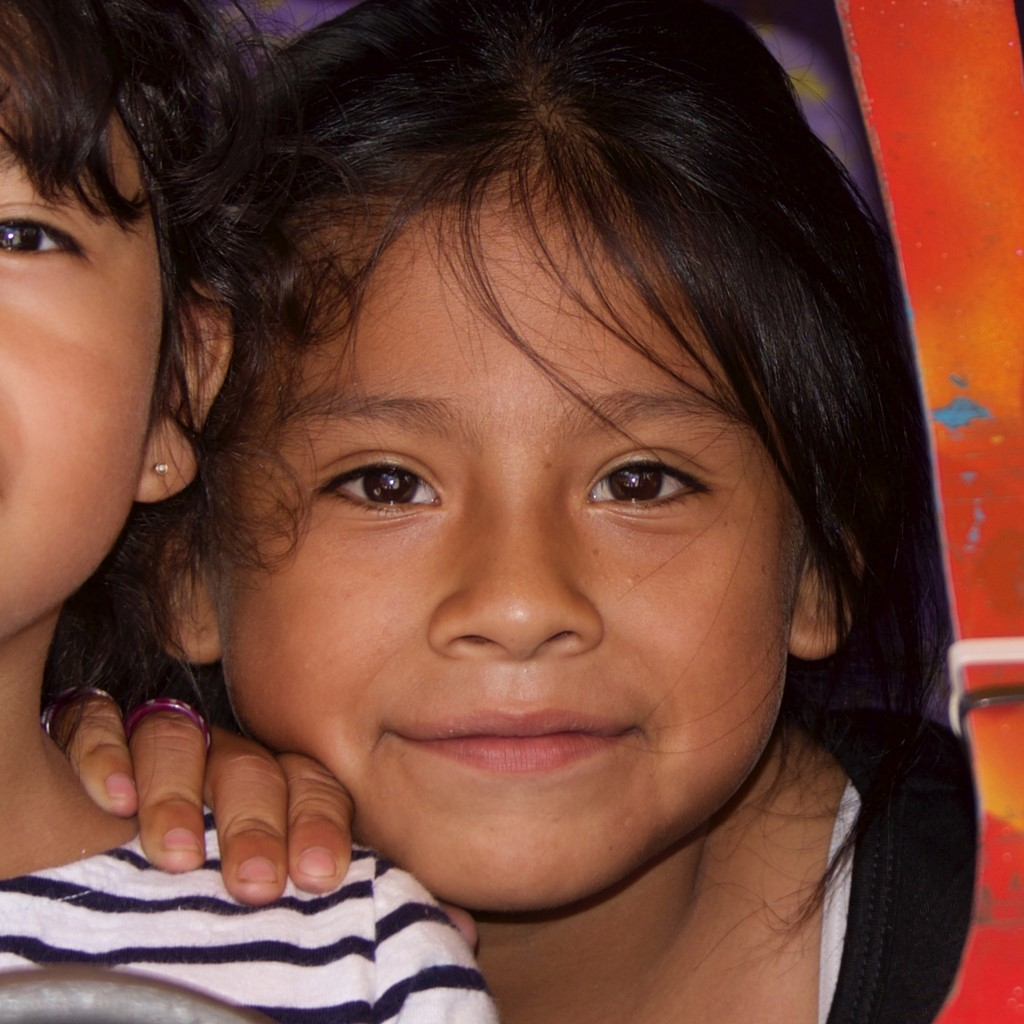sin_mascara: (210, 118, 820, 933)
